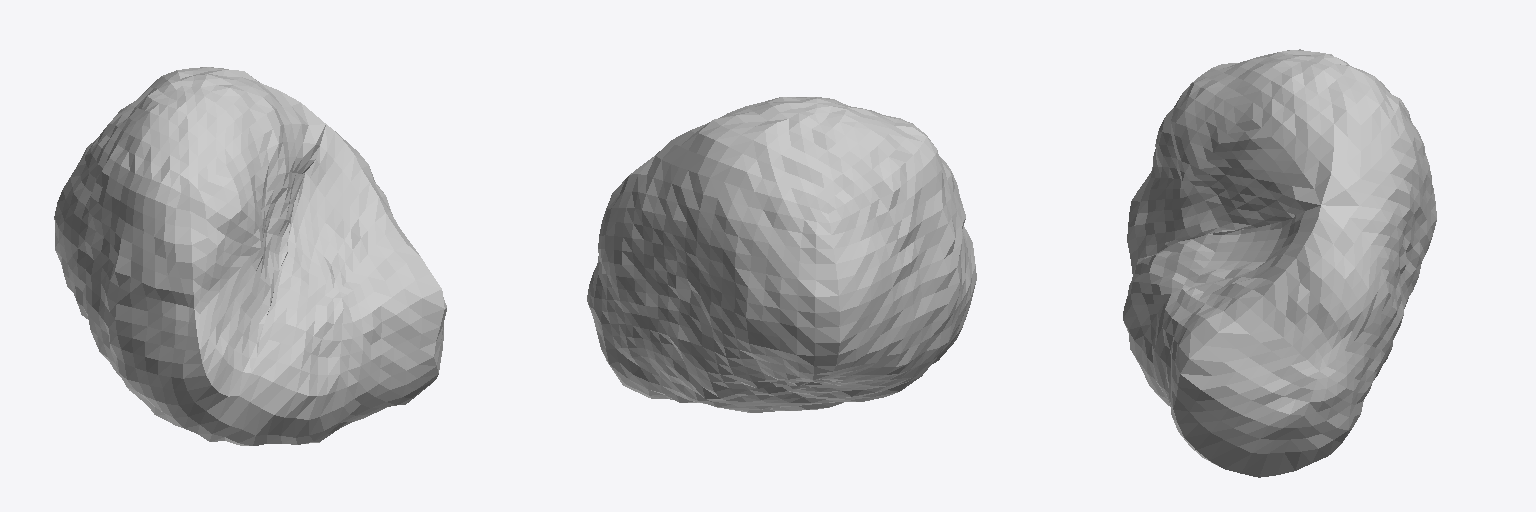
Rendered from Asteroid1.obj.
3 renders of one model, left to right at view 1: azimuth 30°, elevation 25°; view 2: azimuth 150°, elevation 25°; view 3: azimuth 270°, elevation 25°, orthographic.
Visible parts, largest first — view 1: rock.017; view 2: rock.017; view 3: rock.017.
Boxes of the visible parts, <box> form: rock.017: <box>54,67,446,445</box>; rock.017: <box>587,97,976,412</box>; rock.017: <box>1123,49,1436,477</box>.
Bounding box in the file's own units: 1.23 × 1.23 × 1.01.